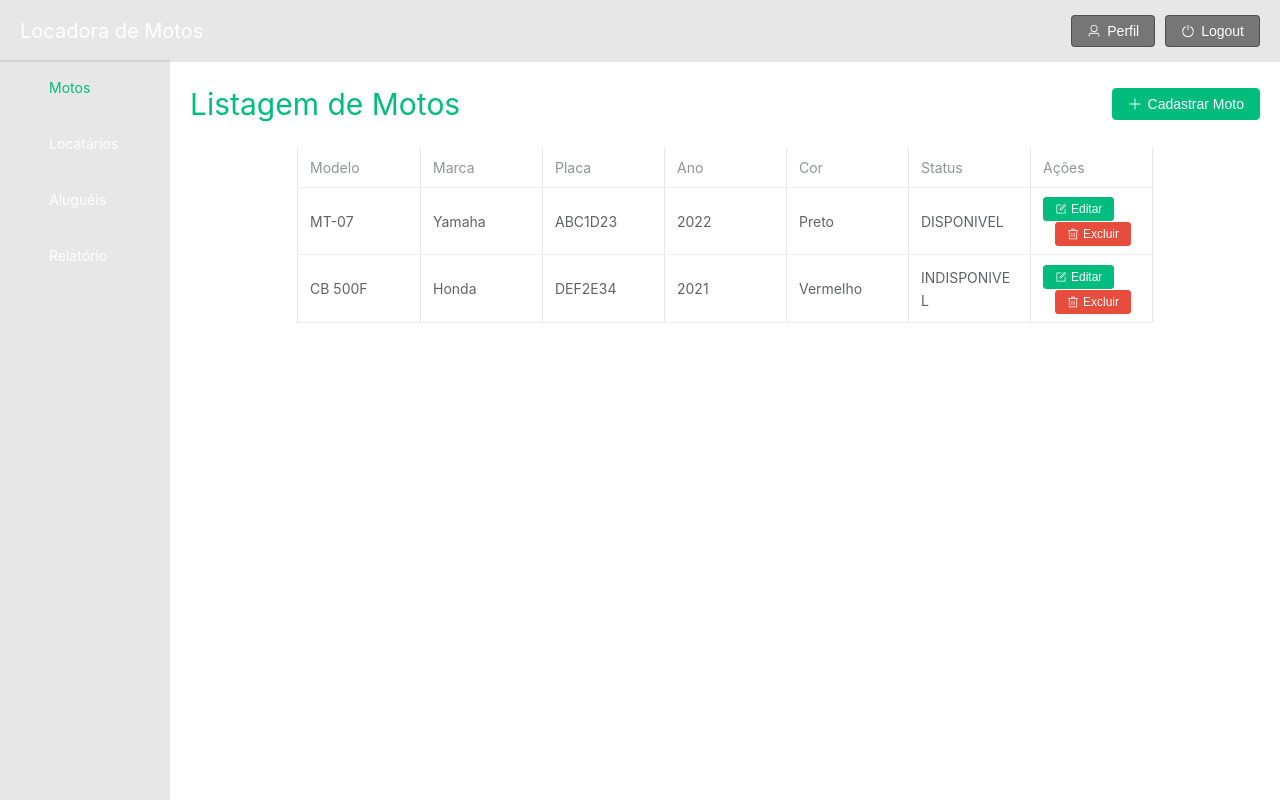
Tela de Listagem de Motos › deve editar uma moto
Click the button "Editar" in the row of "MT-07" at {"x": 1079, "y": 209}, box top-left (1043, 197), bottom-right (1114, 221)
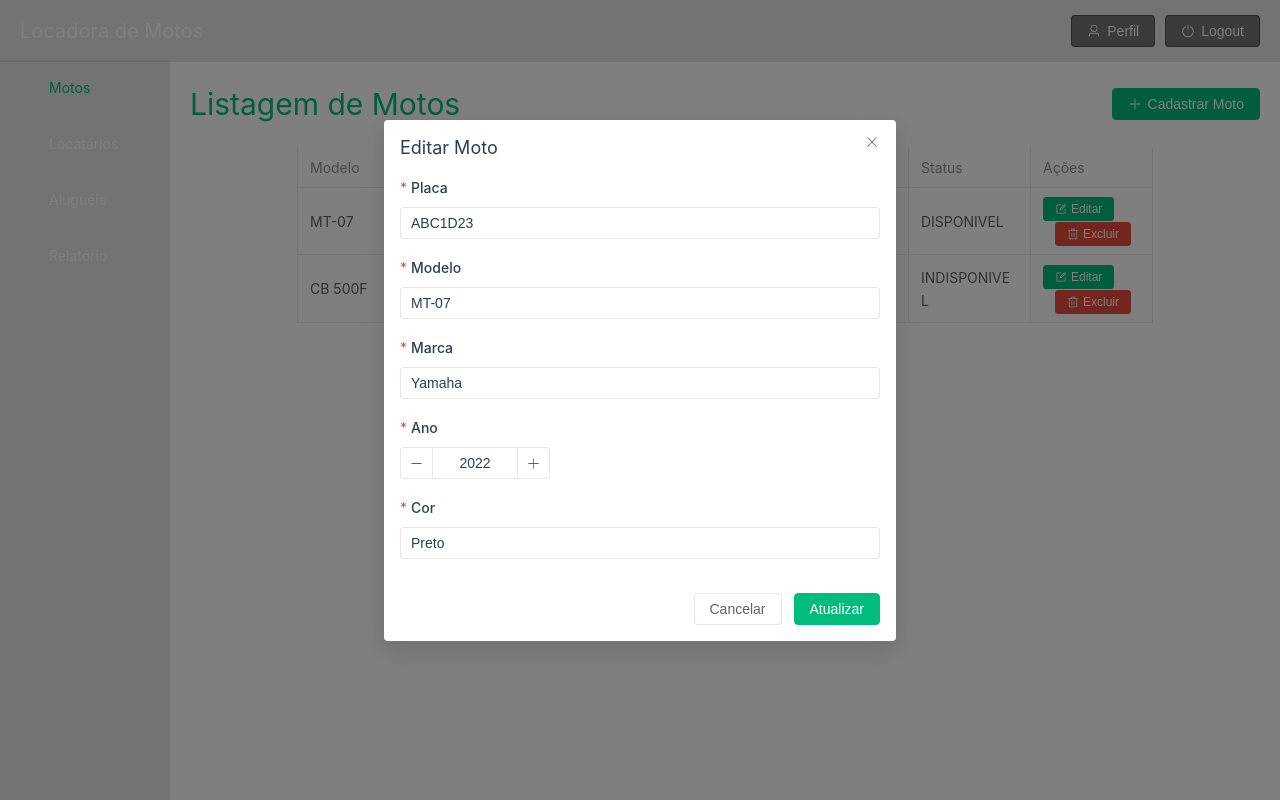
Replace the text in the field with placeholder "Ex: MT-07" with "MT-09" at {"x": 640, "y": 303}, box top-left (411, 288), bottom-right (869, 318)
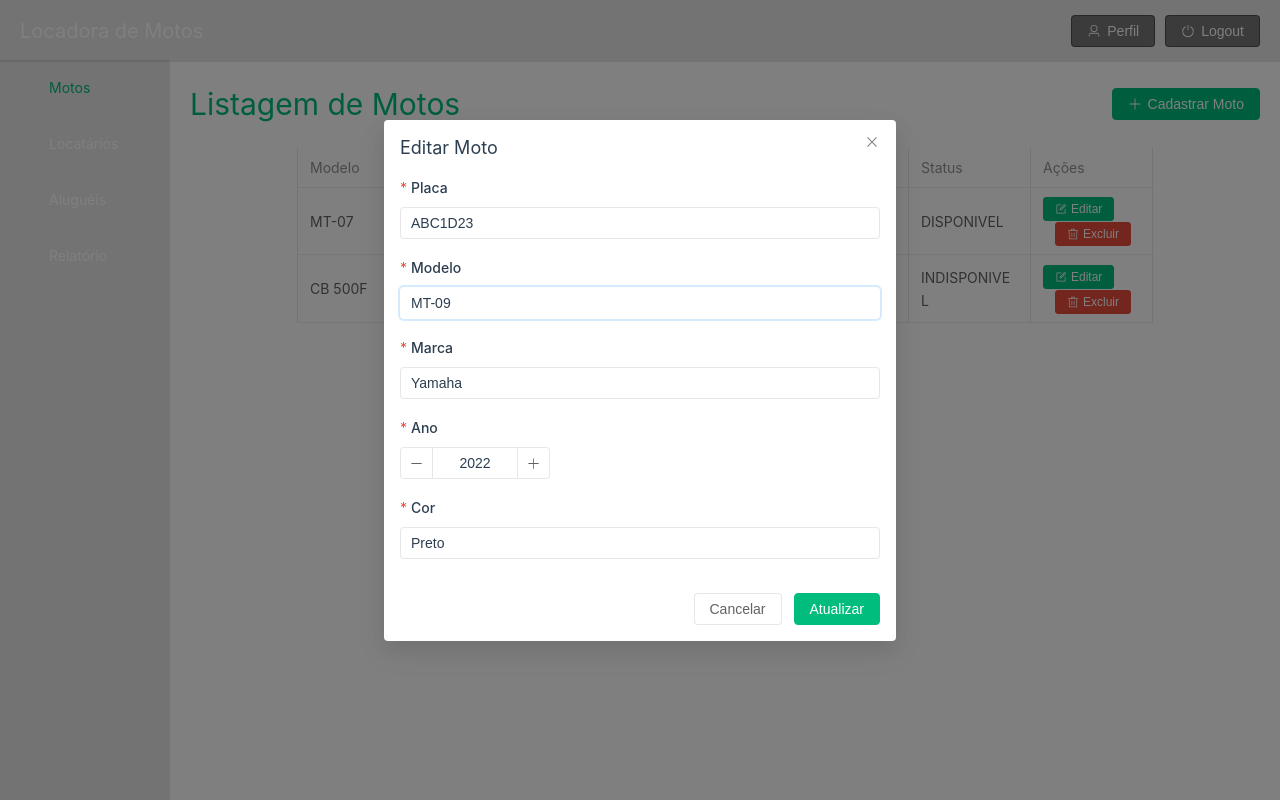
Click the button "Atualizar" at {"x": 838, "y": 609}, box top-left (794, 593), bottom-right (881, 625)
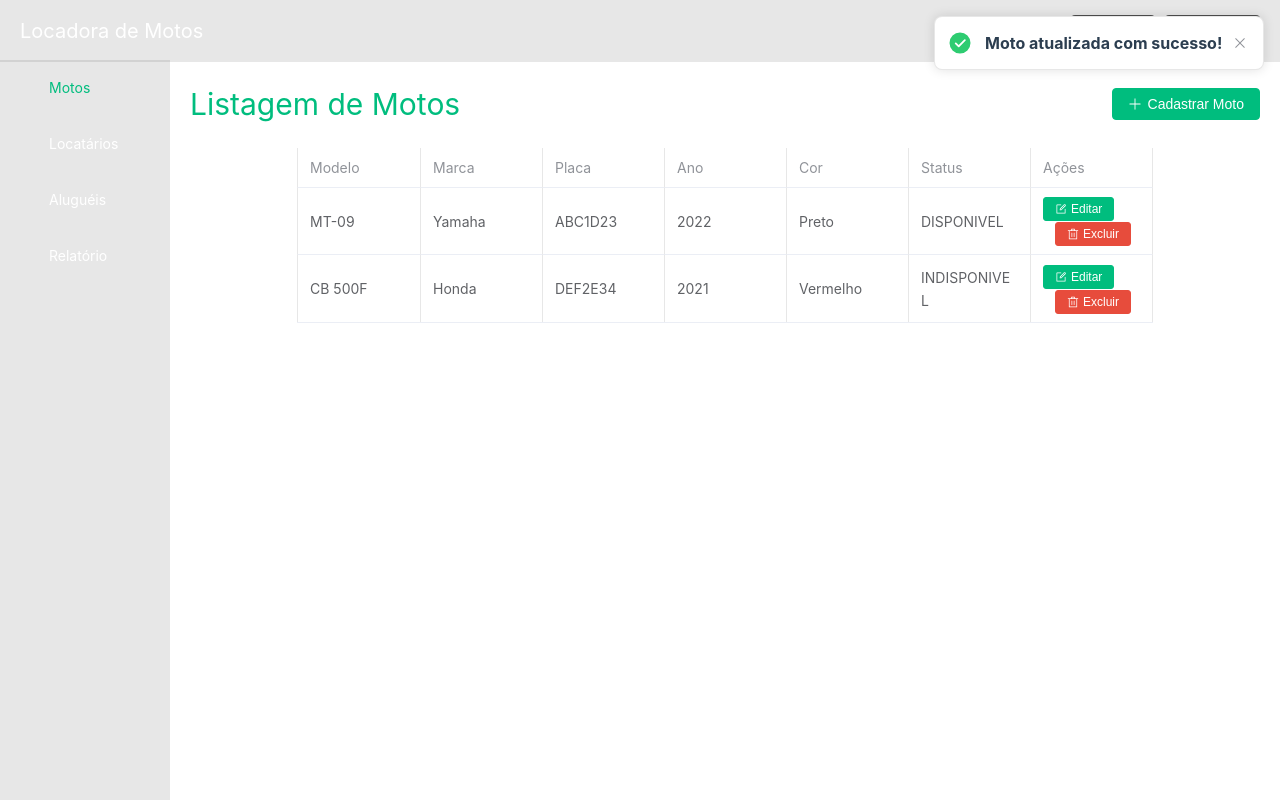
Now the heading "Moto atualizada com sucesso!" is shown, box top-left (985, 31), bottom-right (1222, 55)
